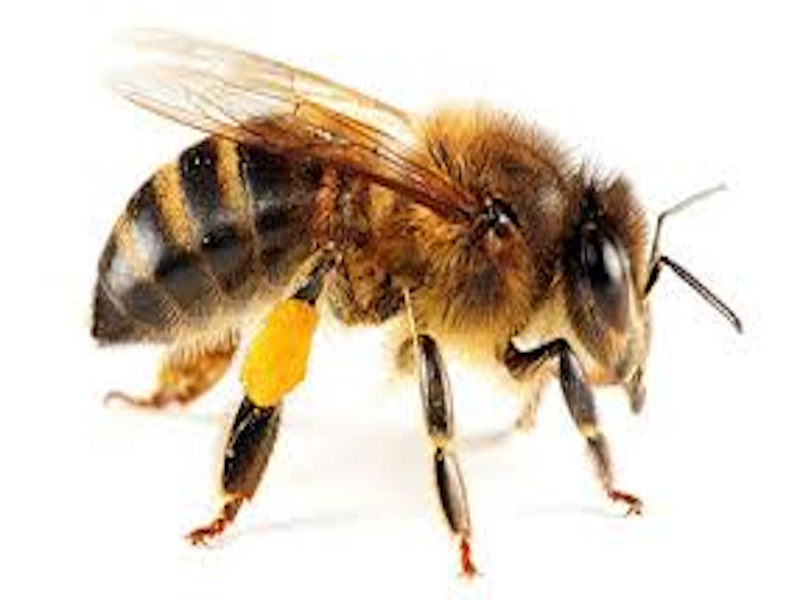abeja: (76, 8, 769, 573)
